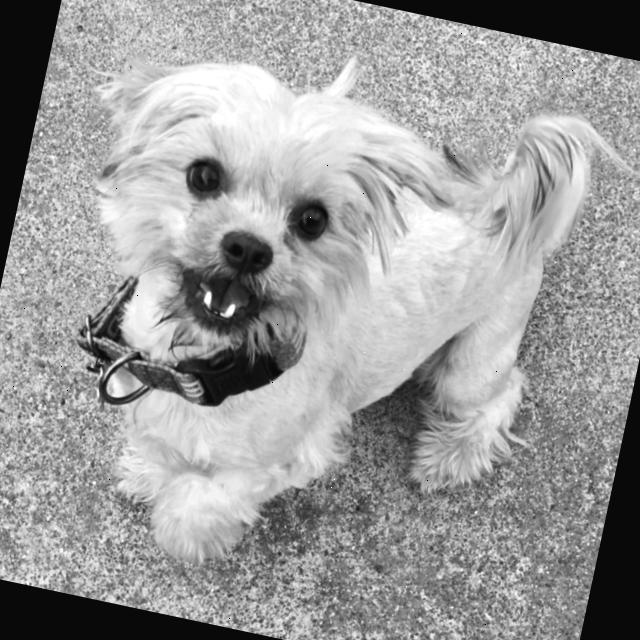shih_tzu_dog: (38, 16, 482, 410)
